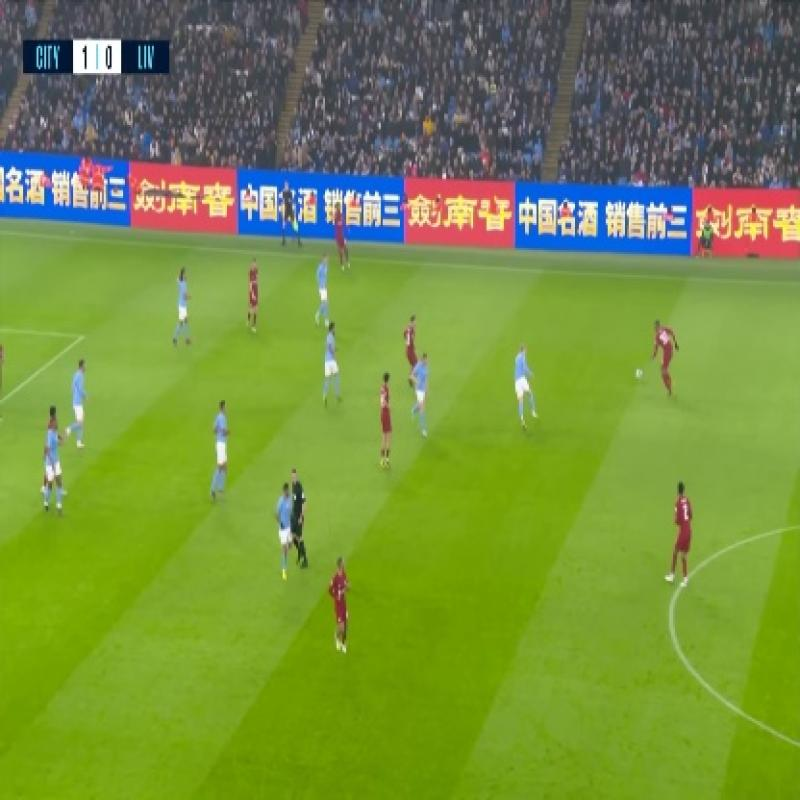9: (69, 320, 94, 354)
c: (652, 582, 692, 626)
